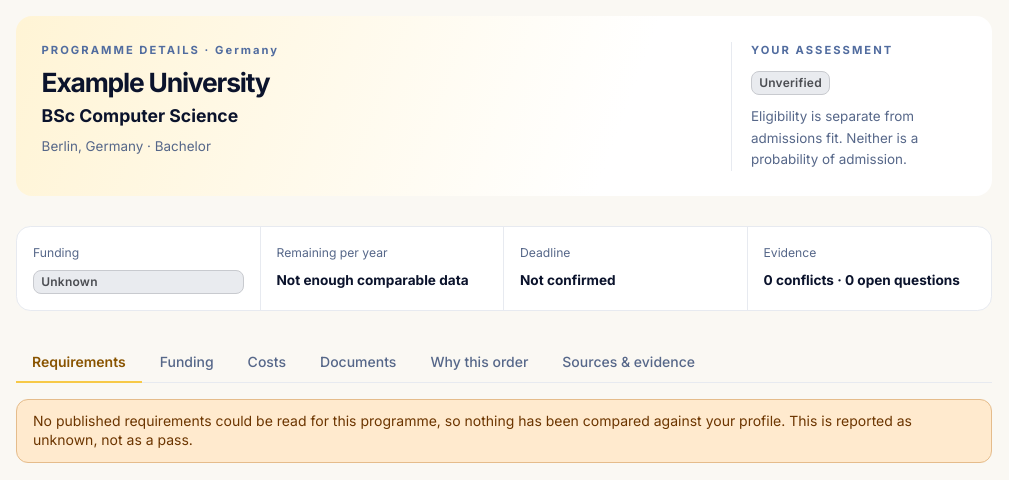
the Costs tab › keeps the plain notice when no fee was found at all
Click the tab with test id "tab-costs" at [267, 363], box [232, 343, 302, 383]
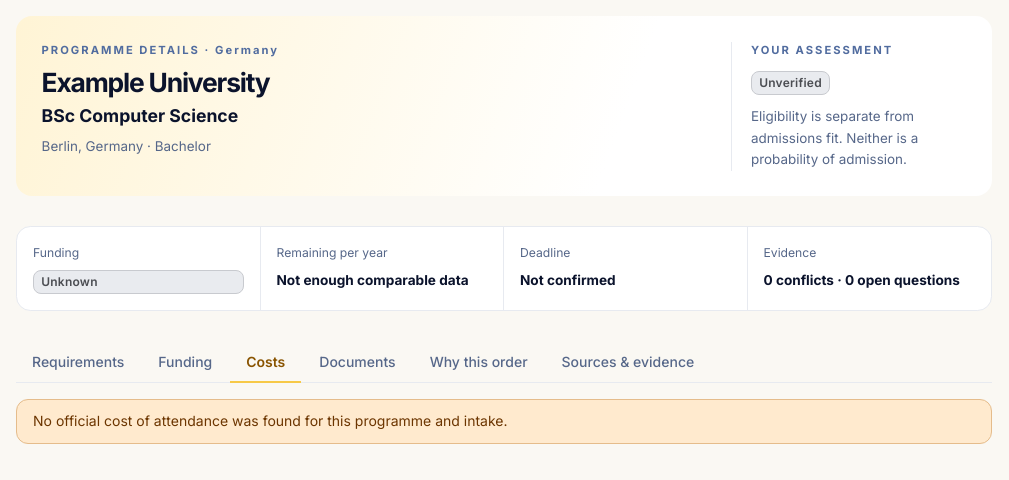
Expected: the text "No official cost of attendance was found for this programme and intake." is shown, [33, 412, 508, 431]
